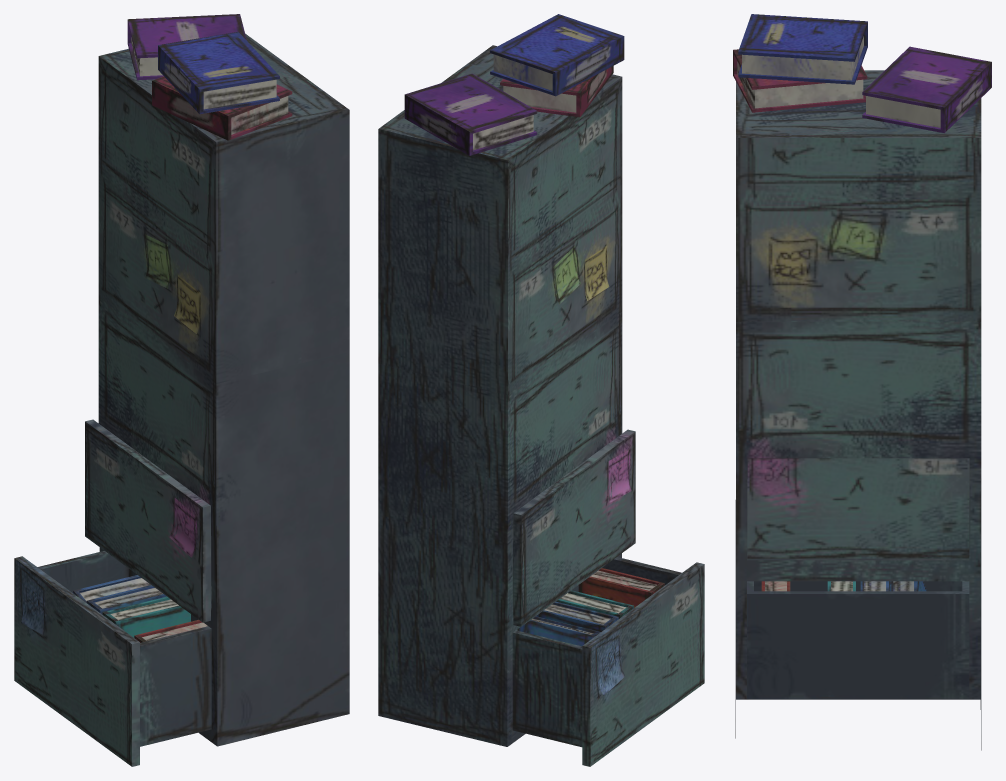
File: polka.fbx
3 views of the same model, side by side, from view 1: azimuth 30°, elevation 25°; view 2: azimuth 150°, elevation 25°; view 3: azimuth 270°, elevation 25° (orthographic). The views are drawn at different scales.
Visible parts, largest first — view 1: Boxes.007; view 2: Boxes.007; view 3: Boxes.007.
Boxes of the visible parts, x1,y1,x2,y2 form: Boxes.007: (14,14,349,766); Boxes.007: (378,14,704,766); Boxes.007: (733,14,991,750).
Size of the model in its own units: 76.29 by 216 by 74.32.
